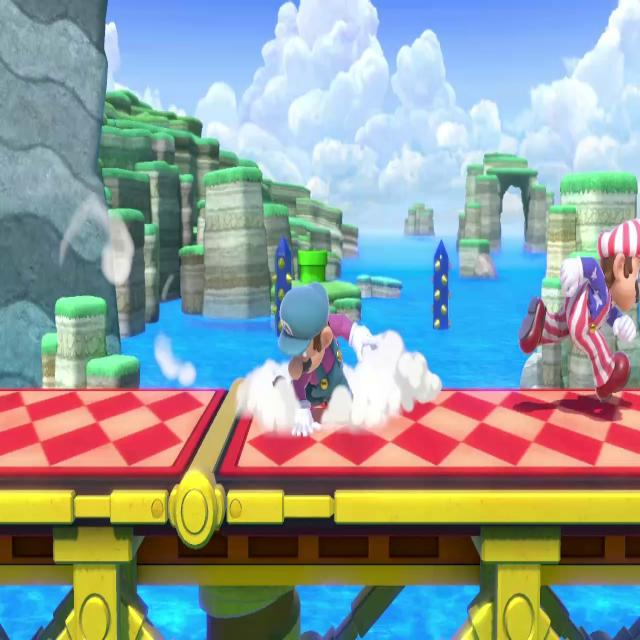Mario: (515, 207, 640, 413), (268, 276, 381, 448)
